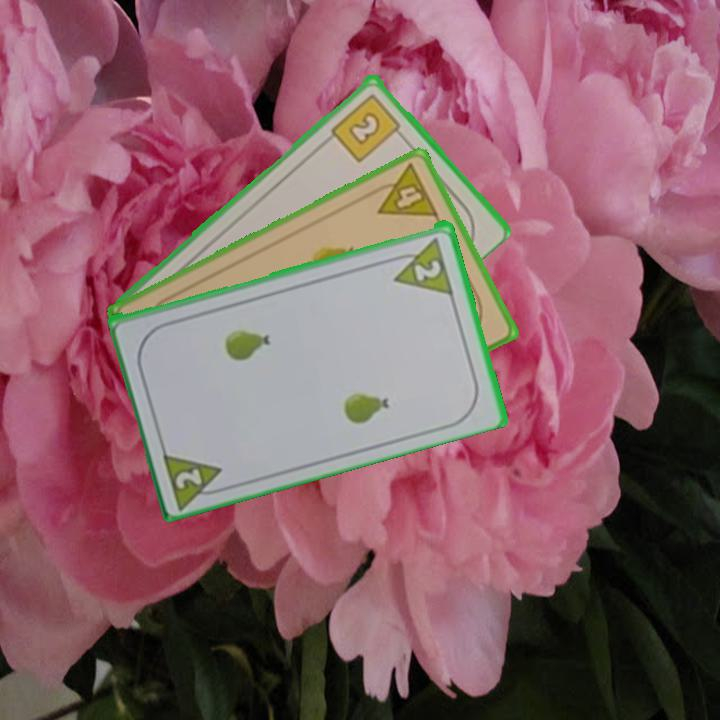2b: (327, 89, 408, 165)
2p: (159, 445, 232, 510), (385, 232, 456, 296)
4p: (365, 160, 442, 220)
